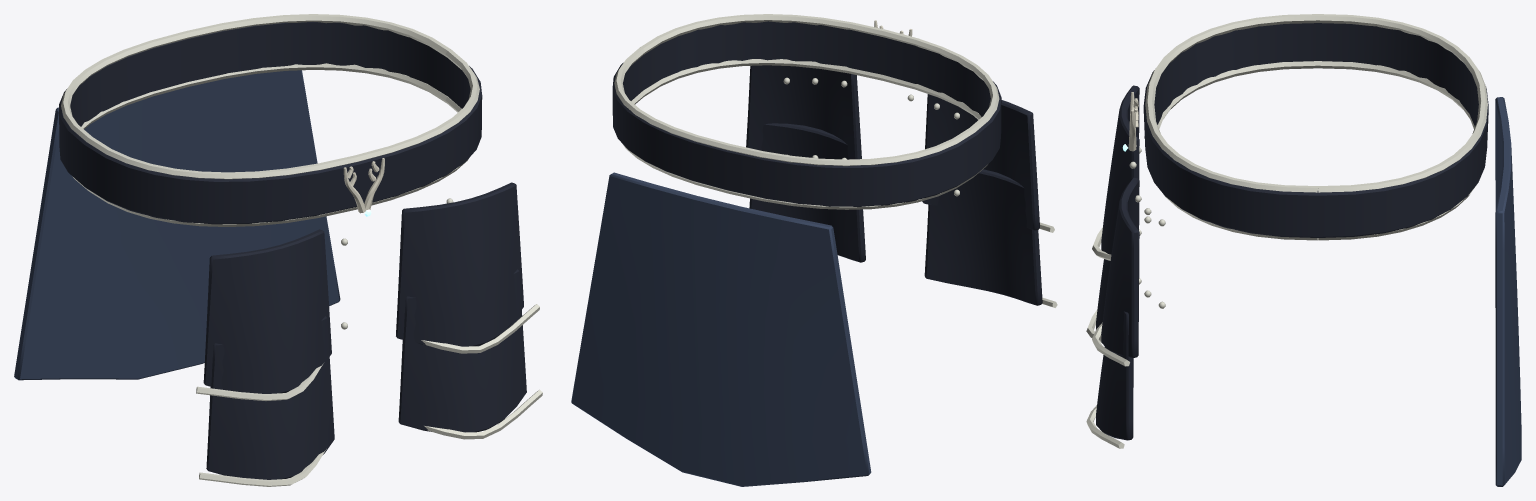
Rendered from boss_pale_requiem_inner_garment.glb.
3 renders of one model, left to right at view 1: azimuth 30°, elevation 25°; view 2: azimuth 150°, elevation 25°; view 3: azimuth 270°, elevation 25°, orthographic. The views are drawn at different scales.
Parts seen in each view (by area): view 1: boss_pale_requiem_inner_garment, AT_thigh_R, AT_thigh_L; view 2: boss_pale_requiem_inner_garment, AT_thigh_R, AT_thigh_L; view 3: boss_pale_requiem_inner_garment, AT_thigh_L, AT_thigh_R.
Boxes of the visible parts, x1,y1,x2,y2 form: boss_pale_requiem_inner_garment: (14, 14, 482, 380); AT_thigh_R: (196, 229, 347, 486); AT_thigh_L: (396, 182, 542, 439); boss_pale_requiem_inner_garment: (571, 14, 1001, 486); AT_thigh_R: (907, 94, 1057, 307); AT_thigh_L: (746, 65, 865, 262); boss_pale_requiem_inner_garment: (1122, 14, 1521, 486); AT_thigh_L: (1086, 177, 1165, 448); AT_thigh_R: (1086, 85, 1151, 341).
Bounding box in the file's own units: 0.4641 × 0.419 × 0.4788.
